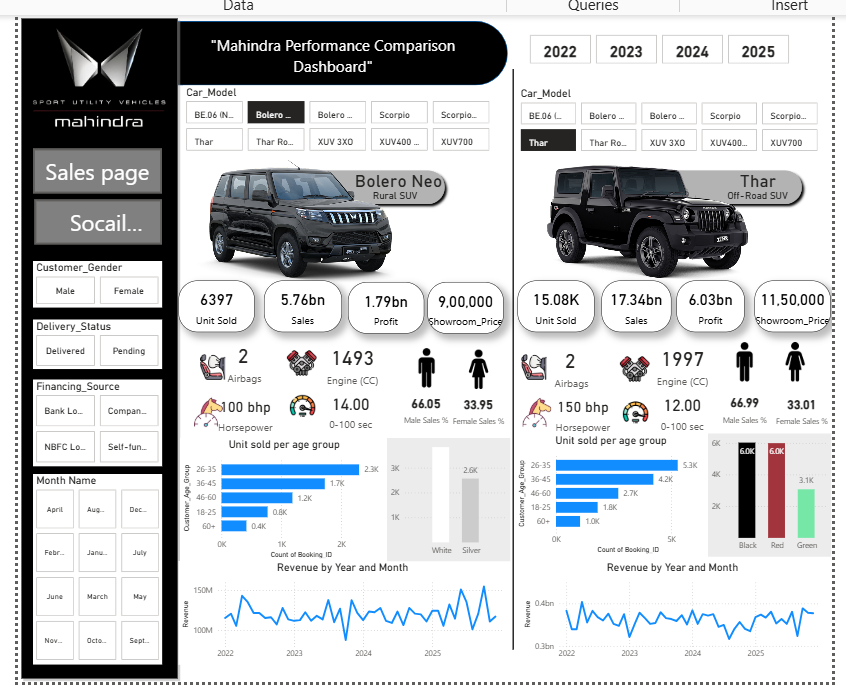

The page's visual inventory and layout, read from the dashboard file:
{"tool":"powerbi","page":{"name":"Performance","canvas":[1280,1050],"ordinal":2},"visuals":[{"type":"shape","box":[354,236,326,70],"z":0},{"type":"advancedSlicerVisual","fields":{"Values":["Mahindra_Product with img.Car_Model"]},"box":[178,220,510,204],"z":1000},{"type":"shape","box":[907.1,235.7,335.7,70],"z":2000},{"type":"shape","box":[157.1,10,612.9,101.4],"z":3000},{"type":"shape","box":[0,0,256.7,1050],"z":4000},{"type":"image","box":[0,0,254.2,194.3],"z":5000},{"type":"actionButton","box":[23.6,210.2,203.1,70.8],"z":6000},{"type":"textbox","box":[281.4,25.7,430,102.9],"z":7000},{"type":"advancedSlicerVisual","fields":{"Values":["Mahindra_Product with img.Car_Model"]},"box":[742,222,482,204],"z":8000},{"type":"shape","box":[748,86,62,914],"z":9000},{"type":"actionButton","box":[26,290.4,200.7,70.8],"z":10000},{"type":"advancedSlicerVisual","fields":{"Values":["Mahindra_Product with img.Car_Model"]},"box":[785.7,112.9,481.4,105.7],"z":11000},{"type":"advancedSlicerVisual","fields":{"Values":["Mahindra_Product with img.Car_Model"]},"box":[260,111.4,488.6,108.6],"z":12000},{"type":"advancedSlicerVisual","fields":{"Values":["Sales.Year"]},"box":[801.7,25,418.3,55],"z":13000},{"type":"card","fields":{"Values":["Sales.SelectedCar_Sales"]},"box":[253.8,418.8,120,81.2],"z":14000},{"type":"card","fields":{"Values":["Sales.SelectedCar_Sales"]},"box":[786.2,418.8,121.2,81.2],"z":15000},{"type":"card","fields":{"Values":["Sum(Sales.Full_sales)"]},"box":[387.5,417.5,122.5,81.2],"z":16000},{"type":"card","fields":{"Values":["Sum(Sales.Full_sales)"]},"box":[918.8,417.5,110,81.2],"z":17000},{"type":"card","fields":{"Values":["Sum(Sales.Full_Profit)"]},"box":[520,420,120,81.2],"z":18000},{"type":"card","fields":{"Values":["Sum(Sales.Full_Profit)"]},"box":[1036.2,418.8,107.5,81.2],"z":19000},{"type":"image","box":[607.9,513.2,72.4,85.5],"z":20000},{"type":"image","box":[680.3,509.2,89.5,94.7],"z":21000},{"type":"image","box":[1106.6,502.6,72.4,85.5],"z":22000},{"type":"image","box":[1178.9,498.7,89.5,94.7],"z":23000},{"type":"card","fields":{"Values":["Sales.MaleSalesPercentage"]},"box":[1088.2,588.2,110.5,61.8],"z":24000},{"type":"card","fields":{"Values":["Sales.MaleSalesPercentage"]},"box":[586.7,588.3,113.3,63.3],"z":25000},{"type":"card","fields":{"Values":["Sales.MaleSalesPercentage"]},"box":[680.3,580.3,89.5,80.3],"z":26000},{"type":"card","fields":{"Values":["Sales.MaleSalesPercentage"]},"box":[1188.2,580.3,92.1,80.3],"z":27000},{"type":"lineChart","fields":{"Y":["Sales.Revenue"],"Category":["Sales.Booking_Date.Variation.Date Hierarchy.Year","Sales.Booking_Date.Variation.Date Hierarchy.Month"]},"box":[790,860,478.3,163.3],"z":28000},{"type":"lineChart","fields":{"Y":["Sales.Revenue"],"Category":["Sales.Booking_Date.Variation.Date Hierarchy.Year","Sales.Booking_Date.Variation.Date Hierarchy.Month"]},"box":[253.3,860,516.7,163.3],"z":29000},{"type":"barChart","title":"Unit sold per age group","fields":{"Category":["Sales.Customer_Age_Group"],"Y":["CountNonNull(Sales.Booking_ID)"]},"box":[254,666,328,194],"z":30000},{"type":"barChart","title":"Unit sold per age group","fields":{"Category":["Sales.Customer_Age_Group"],"Y":["CountNonNull(Sales.Booking_ID)"]},"box":[782,660,304,194],"z":31000},{"type":"columnChart","fields":{"Category":["Sales.Car_Color"],"Y":["CountNonNull(Sales.Booking_ID)"]},"box":[582,666,194,194],"z":32000},{"type":"columnChart","fields":{"Category":["Sales.Car_Color"],"Y":["CountNonNull(Sales.Booking_ID)"]},"box":[1086,660,194,194],"z":33000},{"type":"card","fields":{"Values":["Min(Mahindra_Product with img.Car_Model)"]},"box":[510,235,178.3,45],"z":34000},{"type":"card","fields":{"Values":["Min(Mahindra_Product with img.Body Type)"]},"box":[528.9,257.8,128.9,54.4],"z":35000},{"type":"card","fields":{"Values":["Min(Mahindra_Product with img.Body Type)"]},"box":[1101.2,257.5,127.5,55],"z":36000},{"type":"card","fields":{"Values":["Min(Mahindra_Product with img.Car_Model)"]},"box":[1070,235,190,45],"z":37000},{"type":"image","box":[775.5,528.2,75.5,50],"z":38000},{"type":"card","fields":{"Values":["Sum(Mahindra_Product with img.Airbags)"]},"box":[314.3,501.4,80,90],"z":39000},{"type":"image","box":[418.3,516.7,56.7,61.7],"z":40000},{"type":"card","fields":{"Values":["Sum(Mahindra_Product with img.Engine (CC))"]},"box":[473.3,501.7,108.3,95],"z":41000},{"type":"image","box":[263.3,588.3,70,75],"z":42000},{"type":"card","fields":{"Values":["Min(Mahindra_Product with img.Horsepower)"]},"box":[298.3,581.7,120,91.7],"z":43000},{"type":"card","fields":{"Values":["Sum(Mahindra_Product with img.0-100 Accel (Sec))"]},"box":[465.5,572.7,116.4,95.5],"z":44000},{"type":"image","box":[421.7,588.3,50,55],"z":45000},{"type":"card","fields":{"Values":["Sum(Mahindra_Product with img.Airbags)"]},"box":[830,507.3,80,90],"z":46000},{"type":"card","fields":{"Values":["Sum(Mahindra_Product with img.Engine (CC))"]},"box":[991.8,502.7,108.2,94.5],"z":47000},{"type":"card","fields":{"Values":["Min(Mahindra_Product with img.Horsepower)"]},"box":[830,581.8,120,91.8],"z":48000},{"type":"card","fields":{"Values":["Sum(Mahindra_Product with img.0-100 Accel (Sec))"]},"box":[988.2,577.3,116.4,95.5],"z":49000},{"type":"image","box":[268.3,528.3,75,50],"z":50000},{"type":"image","box":[781.8,589.1,70,75.5],"z":51000},{"type":"image","box":[941.8,525.5,57.3,61.8],"z":52000},{"type":"image","box":[946.4,598.2,50,55.5],"z":53000},{"type":"card","fields":{"Values":["Mahindra_Product with img.Selected_ExShowroom_Price"]},"box":[643.8,420,120,81.2],"z":54000},{"type":"card","fields":{"Values":["Mahindra_Product with img.Selected_ExShowroom_Price"]},"box":[1160,417.5,120,81.2],"z":55000},{"type":"advancedSlicerVisual","fields":{"Values":["Sales.Customer_Gender"]},"box":[23.6,387.3,203.1,73.2],"z":56000},{"type":"advancedSlicerVisual","fields":{"Values":["Sales.Financing_Source"]},"box":[23.6,573.8,203.1,137],"z":57000},{"type":"advancedSlicerVisual","fields":{"Values":["Sales.Delivery_Status"]},"box":[23.6,479.4,203.1,77.9],"z":58000},{"type":"advancedSlicerVisual","fields":{"Values":["Sales.Month Name"]},"box":[23.6,722.6,203.1,299.9],"z":59000}]}

Visuals, with their boxes on the page's 1280x1050 design canvas (x1, y1, x2, y2). These are canvas units, not pixel positions in the 846x694 screenshot, which may show the page scaled, cropped or inside an application window:
shape: 354/236/680/306
advancedSlicerVisual - Mahindra_Product with img.Car_Model: 178/220/688/424
shape: 907/236/1243/306
shape: 157/10/770/111
shape: 0/0/257/1050
image: 0/0/254/194
actionButton: 24/210/227/281
textbox: 281/26/711/129
advancedSlicerVisual - Mahindra_Product with img.Car_Model: 742/222/1224/426
shape: 748/86/810/1000
actionButton: 26/290/227/361
advancedSlicerVisual - Mahindra_Product with img.Car_Model: 786/113/1267/219
advancedSlicerVisual - Mahindra_Product with img.Car_Model: 260/111/749/220
advancedSlicerVisual - Sales.Year: 802/25/1220/80
card - Sales.SelectedCar_Sales: 254/419/374/500
card - Sales.SelectedCar_Sales: 786/419/907/500
card - Sum(Sales.Full_sales): 388/418/510/499
card - Sum(Sales.Full_sales): 919/418/1029/499
card - Sum(Sales.Full_Profit): 520/420/640/501
card - Sum(Sales.Full_Profit): 1036/419/1144/500
image: 608/513/680/599
image: 680/509/770/604
image: 1107/503/1179/588
image: 1179/499/1268/593
card - Sales.MaleSalesPercentage: 1088/588/1199/650
card - Sales.MaleSalesPercentage: 587/588/700/652
card - Sales.MaleSalesPercentage: 680/580/770/661
card - Sales.MaleSalesPercentage: 1188/580/1280/661
lineChart - Sales.Revenue x Sales.Booking_Date.Variation.Date Hierarchy.Year: 790/860/1268/1023
lineChart - Sales.Revenue x Sales.Booking_Date.Variation.Date Hierarchy.Year: 253/860/770/1023
"Unit sold per age group" barChart: 254/666/582/860
"Unit sold per age group" barChart: 782/660/1086/854
columnChart - Sales.Car_Color x CountNonNull(Sales.Booking_ID): 582/666/776/860
columnChart - Sales.Car_Color x CountNonNull(Sales.Booking_ID): 1086/660/1280/854
card - Min(Mahindra_Product with img.Car_Model): 510/235/688/280
card - Min(Mahindra_Product with img.Body Type): 529/258/658/312
card - Min(Mahindra_Product with img.Body Type): 1101/258/1229/312
card - Min(Mahindra_Product with img.Car_Model): 1070/235/1260/280
image: 776/528/851/578
card - Sum(Mahindra_Product with img.Airbags): 314/501/394/591
image: 418/517/475/578
card - Sum(Mahindra_Product with img.Engine (CC)): 473/502/582/597
image: 263/588/333/663
card - Min(Mahindra_Product with img.Horsepower): 298/582/418/673
card - Sum(Mahindra_Product with img.0-100 Accel (Sec)): 466/573/582/668
image: 422/588/472/643
card - Sum(Mahindra_Product with img.Airbags): 830/507/910/597
card - Sum(Mahindra_Product with img.Engine (CC)): 992/503/1100/597
card - Min(Mahindra_Product with img.Horsepower): 830/582/950/674
card - Sum(Mahindra_Product with img.0-100 Accel (Sec)): 988/577/1105/673
image: 268/528/343/578
image: 782/589/852/665
image: 942/526/999/587
image: 946/598/996/654
card - Mahindra_Product with img.Selected_ExShowroom_Price: 644/420/764/501
card - Mahindra_Product with img.Selected_ExShowroom_Price: 1160/418/1280/499
advancedSlicerVisual - Sales.Customer_Gender: 24/387/227/460
advancedSlicerVisual - Sales.Financing_Source: 24/574/227/711
advancedSlicerVisual - Sales.Delivery_Status: 24/479/227/557
advancedSlicerVisual - Sales.Month Name: 24/723/227/1022
